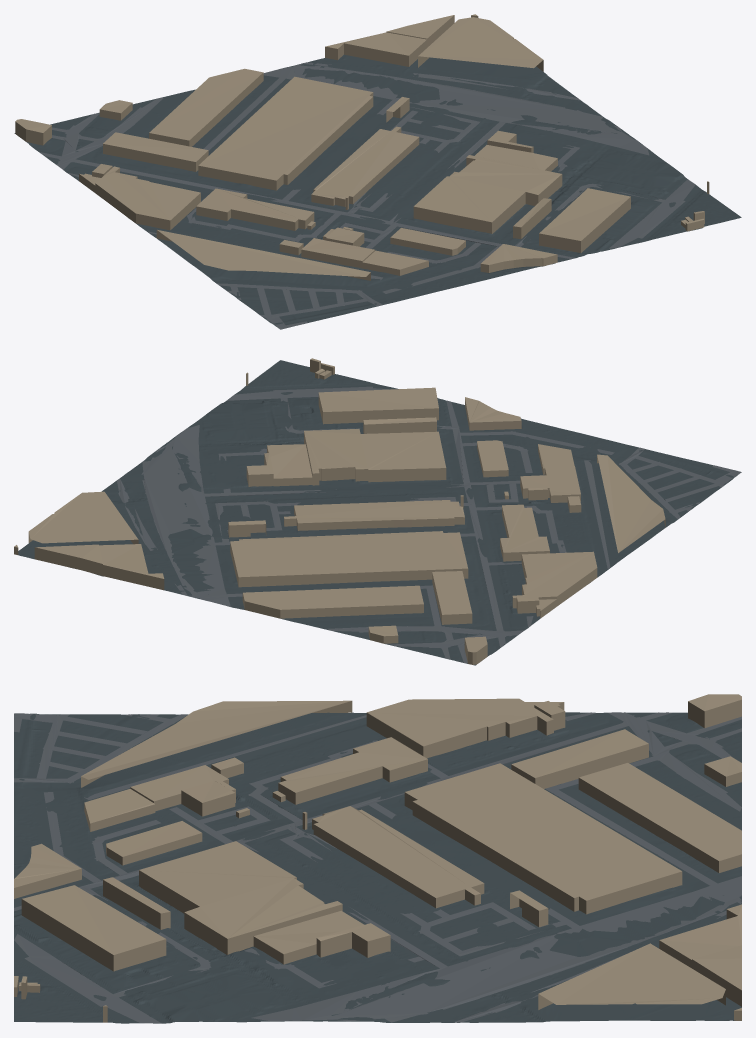
The model's file is epsg26910-1440-10879.lod0.glb.
The picture shows the model from 3 angles, top to bottom: view 1: azimuth 30°, elevation 25°; view 2: azimuth 150°, elevation 25°; view 3: azimuth 270°, elevation 25°; orthographic projection. The views are drawn at different scales.
Parts seen in each view (by area): view 1: epsg26910-1440-10879-lod0; view 2: epsg26910-1440-10879-lod0; view 3: epsg26910-1440-10879-lod0.
Part boxes in pixels (<box>): epsg26910-1440-10879-lod0: <box>14,14,741,329</box>; epsg26910-1440-10879-lod0: <box>14,358,741,665</box>; epsg26910-1440-10879-lod0: <box>14,694,741,1023</box>.
Bounding box in the file's own units: 384 × 12.75 × 384.
